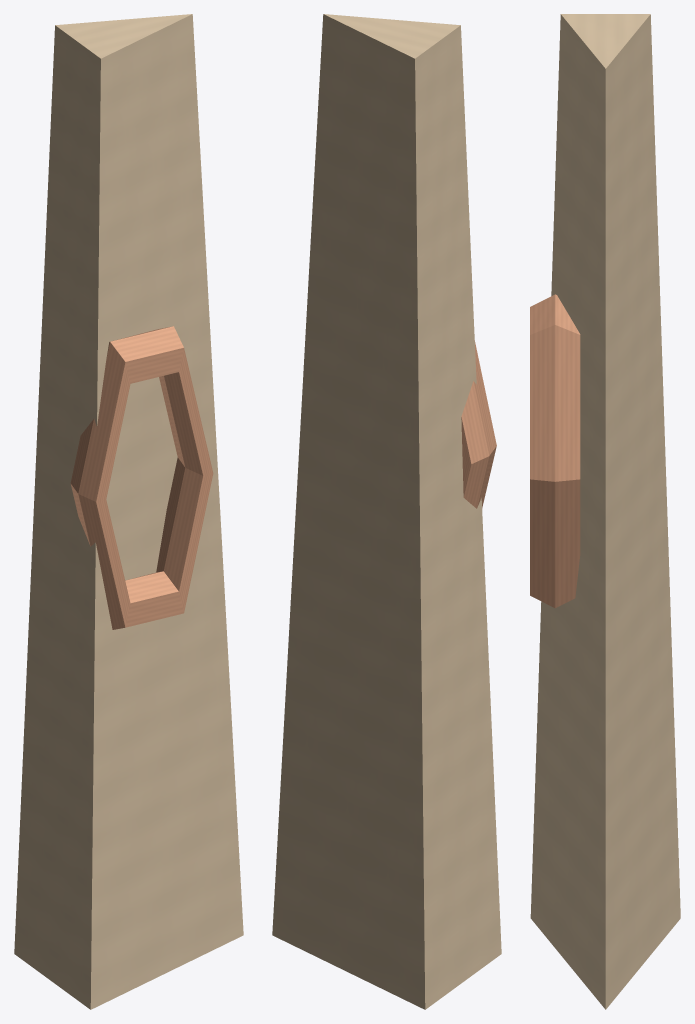
File: atlas100-s082-a05.lod1.glb
3 views of the same model, side by side, from view 1: azimuth 30°, elevation 25°; view 2: azimuth 150°, elevation 25°; view 3: azimuth 270°, elevation 25° (orthographic).
Parts seen in each view (by area): view 1: atlas100-s082-a05:part-000, atlas100-s082-a05:part-001; view 2: atlas100-s082-a05:part-000, atlas100-s082-a05:part-001; view 3: atlas100-s082-a05:part-000, atlas100-s082-a05:part-001.
Boxes of the visible parts, x1,y1,x2,y2 form: atlas100-s082-a05:part-000: (14,14,243,1009); atlas100-s082-a05:part-001: (70,326,213,629); atlas100-s082-a05:part-000: (272,14,501,1009); atlas100-s082-a05:part-001: (461,340,496,508); atlas100-s082-a05:part-000: (530,14,680,1009); atlas100-s082-a05:part-001: (530,294,580,608).
Size of the model in its own units: 0.1638 by 0.7644 by 0.1139.
Materials: 2 (2 with a texture image).
